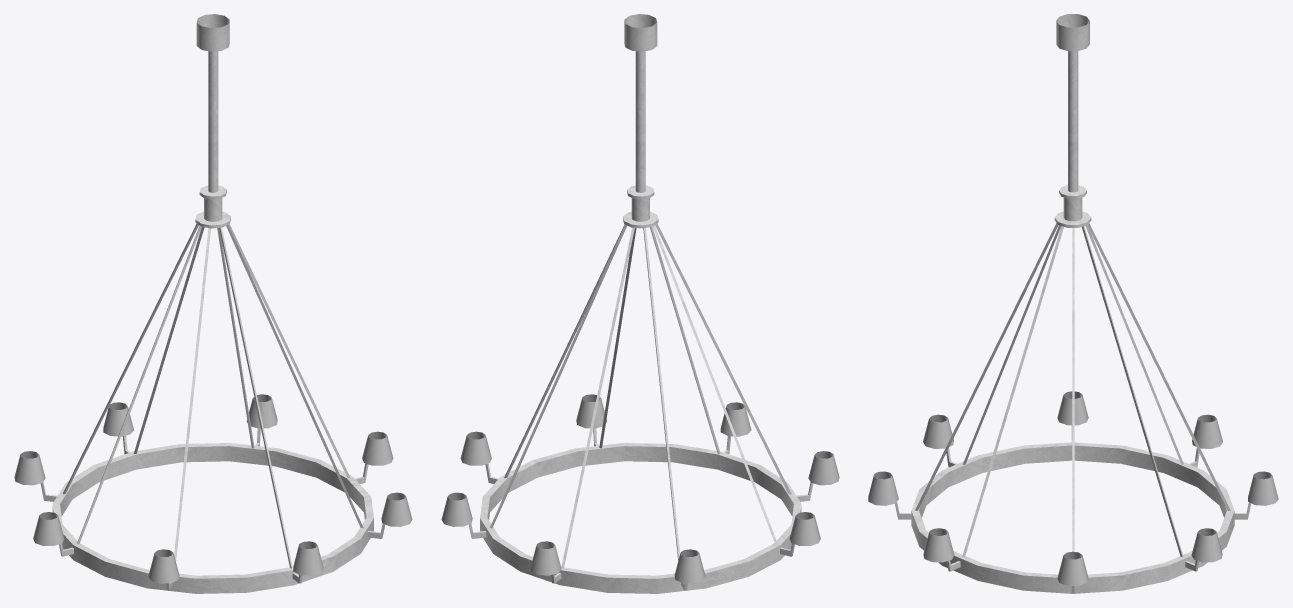
The model's file is D_LightCelling_201.fbx.
The picture shows the model from 3 angles, left to right: view 1: azimuth 30°, elevation 25°; view 2: azimuth 150°, elevation 25°; view 3: azimuth 270°, elevation 25°; orthographic projection.
Parts seen in each view (by area): view 1: D_LightCelling_201; view 2: D_LightCelling_201; view 3: D_LightCelling_201.
Boxes of the visible parts, bbox=[...] form: D_LightCelling_201: bbox=[14, 14, 412, 593]; D_LightCelling_201: bbox=[441, 14, 839, 593]; D_LightCelling_201: bbox=[868, 14, 1278, 593].
Size of the model in its own units: 2.44 by 3.31 by 2.44.
